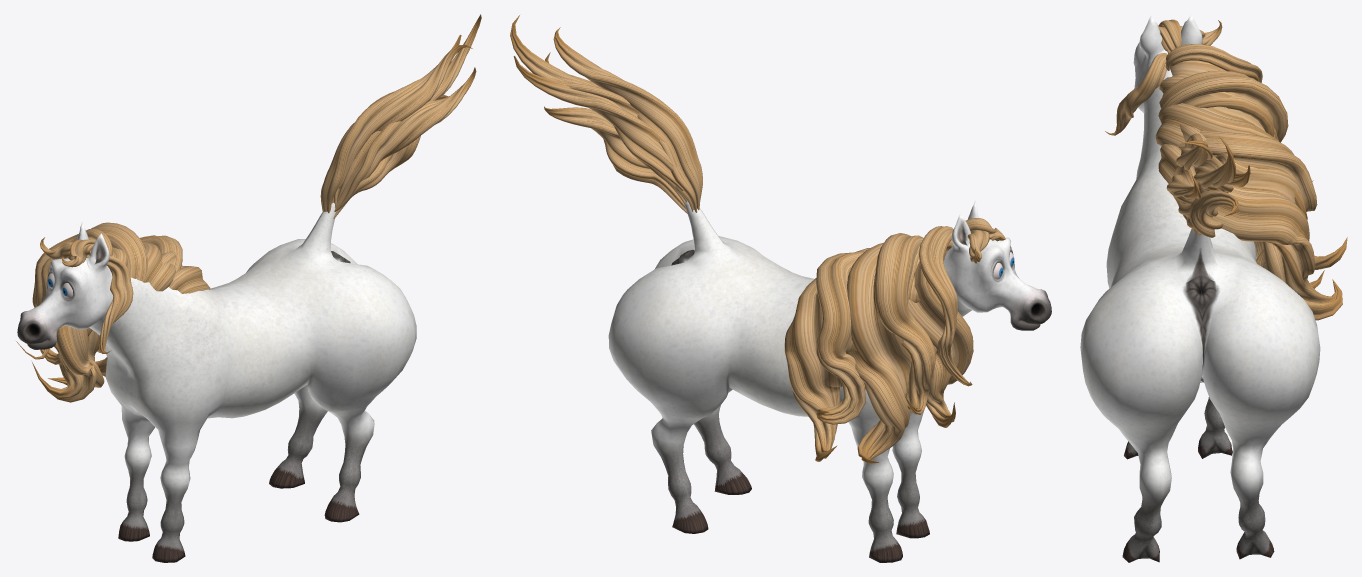
Rendered from horse.obj.
3 views of the same model, side by side, from view 1: azimuth 30°, elevation 25°; view 2: azimuth 150°, elevation 25°; view 3: azimuth 270°, elevation 25° (orthographic). The views are drawn at different scales.
Parts seen in each view (by area): view 1: Plane.002, BezierCurve, BezierCurve.002, BezierCurve.003, BezierCurve.001, BezierCurve.004; view 2: Plane.002, BezierCurve.003, BezierCurve, BezierCurve.004, BezierCurve.002, BezierCurve.001; view 3: Plane.002, BezierCurve.004, BezierCurve.003, BezierCurve, BezierCurve.002, BezierCurve.001.
Boxes of the visible parts, x1,y1,x2,y2 form: Plane.002: (17, 203, 416, 562); BezierCurve: (320, 14, 481, 218); BezierCurve.002: (16, 228, 127, 402); BezierCurve.003: (40, 222, 175, 387); BezierCurve.001: (40, 237, 133, 353); BezierCurve.004: (95, 235, 210, 376); Plane.002: (608, 200, 1051, 562); BezierCurve.003: (846, 233, 936, 463); BezierCurve: (510, 15, 702, 213); BezierCurve.004: (784, 248, 870, 461); BezierCurve.002: (908, 226, 973, 427); BezierCurve.001: (965, 218, 1005, 263); Plane.002: (1080, 14, 1320, 562); BezierCurve.004: (1158, 125, 1347, 320); BezierCurve.003: (1155, 70, 1324, 288); BezierCurve: (1166, 133, 1250, 237); BezierCurve.002: (1159, 44, 1262, 96); BezierCurve.001: (1105, 19, 1222, 135).
Bounding box in the file's own units: 11.13 × 9.49 × 4.4.
